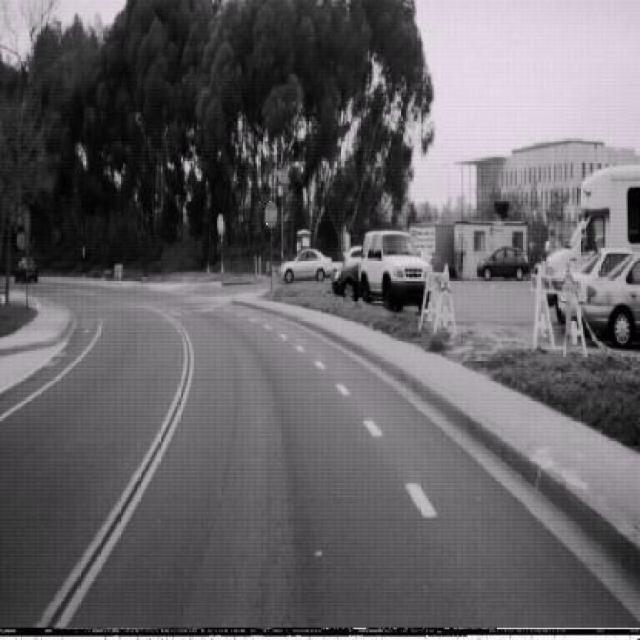stop: (263, 200, 278, 228), (217, 215, 225, 240)
